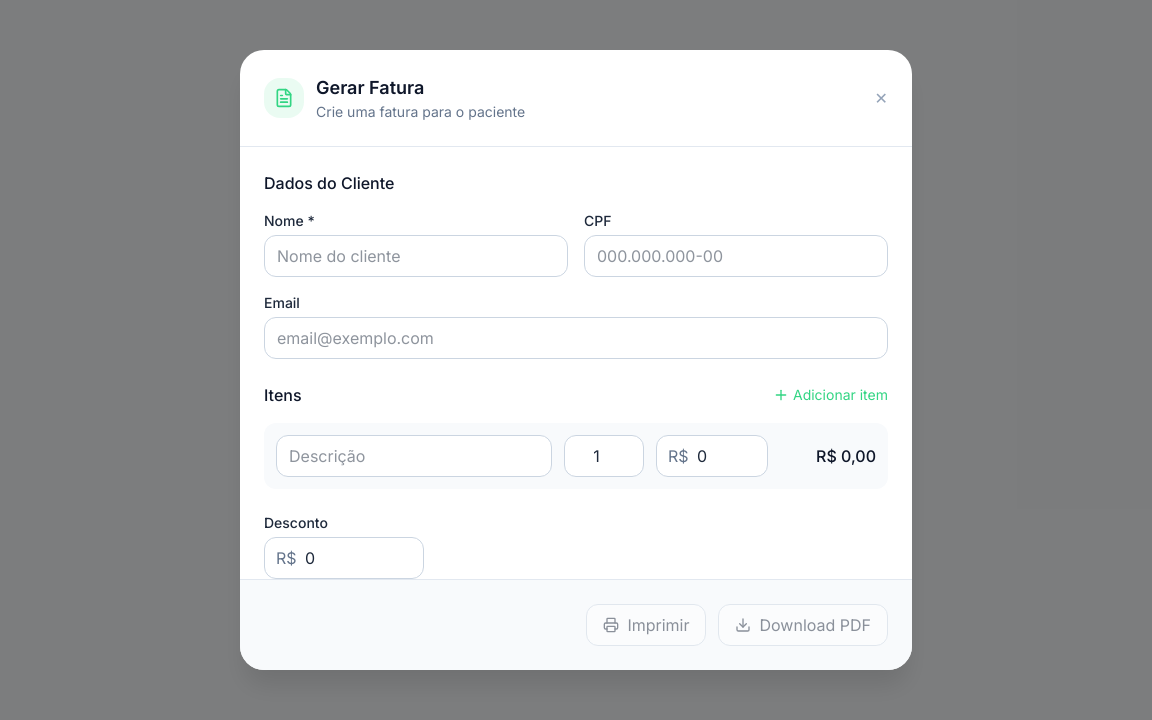
it: InvoiceGenerator - Items Management › adding items › should add new item when clicking add button
Click the button "Adicionar item": (830, 395) 773,385 -> 888,405
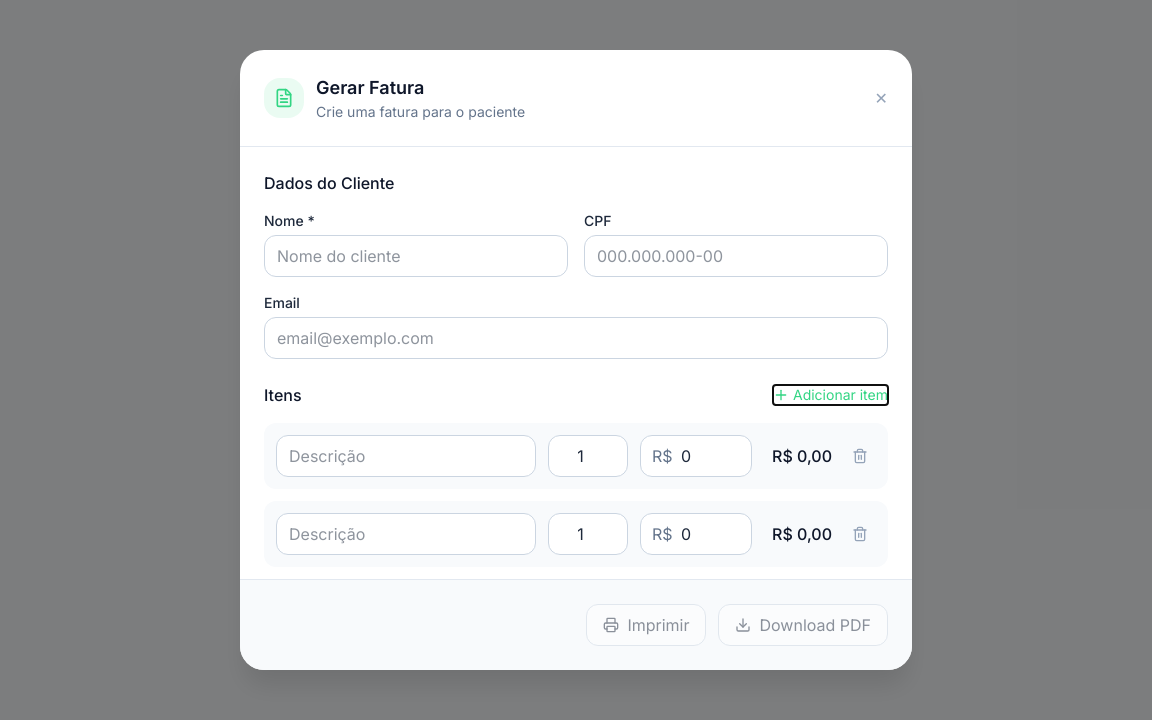
Expected: the number of fields with placeholder "Descrição" is 2, 276,435 -> 536,477; 276,513 -> 536,555
